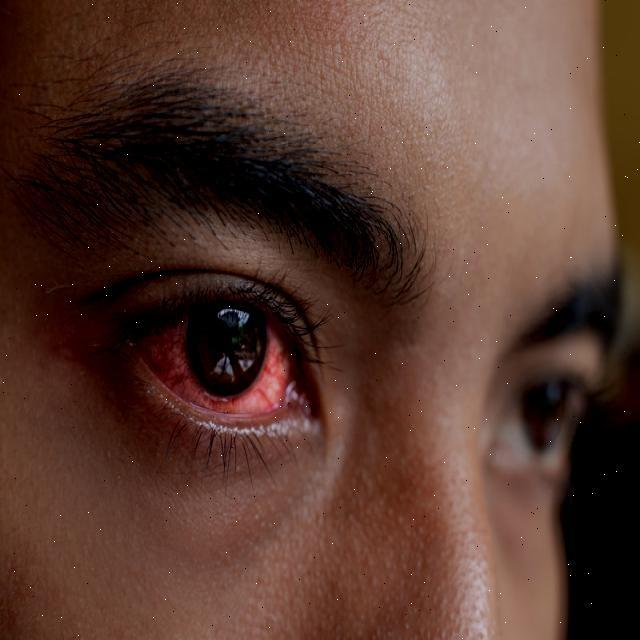Conjunctivitis: (116, 300, 316, 420)
